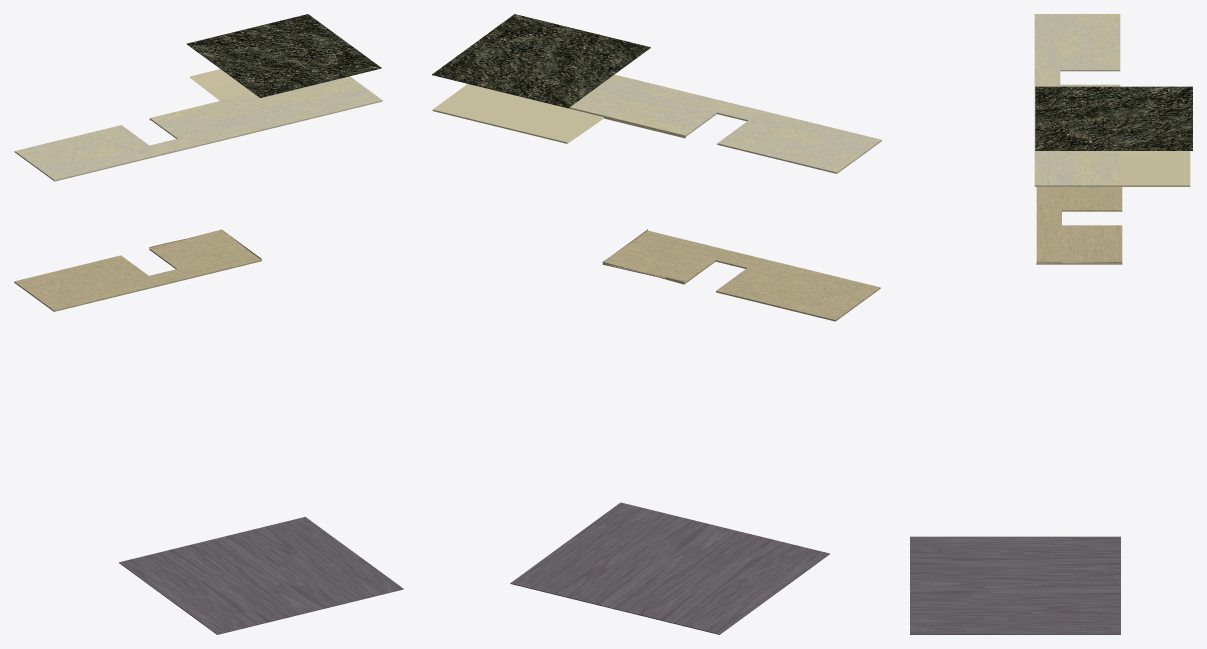
File: 出错的地板.fbx
3 views of the same model, side by side, from view 1: azimuth 30°, elevation 25°; view 2: azimuth 150°, elevation 25°; view 3: azimuth 270°, elevation 25° (orthographic). The views are drawn at different scales.
Parts seen in each view (by area): view 1: 平面.032, 平面.030, 平面.029, 平面.024; view 2: 平面.032, 平面.030, 平面.029, 平面.024; view 3: 平面.032, 平面.030, 平面.029, 平面.024.
Part boxes in pixels (x1,y1,x2,y2): 平面.032: (119, 517, 403, 634); 平面.030: (14, 69, 382, 181); 平面.029: (187, 14, 381, 97); 平面.024: (14, 229, 261, 311); 平面.032: (510, 502, 829, 634); 平面.030: (432, 74, 881, 173); 平面.029: (432, 14, 650, 108); 平面.024: (602, 229, 880, 321); 平面.032: (910, 536, 1120, 634); 平面.030: (1034, 14, 1190, 186); 平面.029: (1035, 86, 1192, 150); 平面.024: (1036, 187, 1122, 264).
Size of the model in its own units: 11029 by 15103 by 7682.
Materials: 4 (4 with a texture image).
